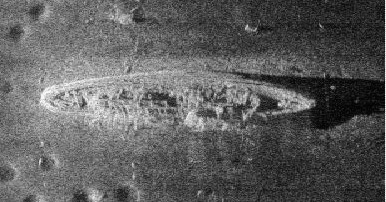ship: (43, 70, 316, 131)
